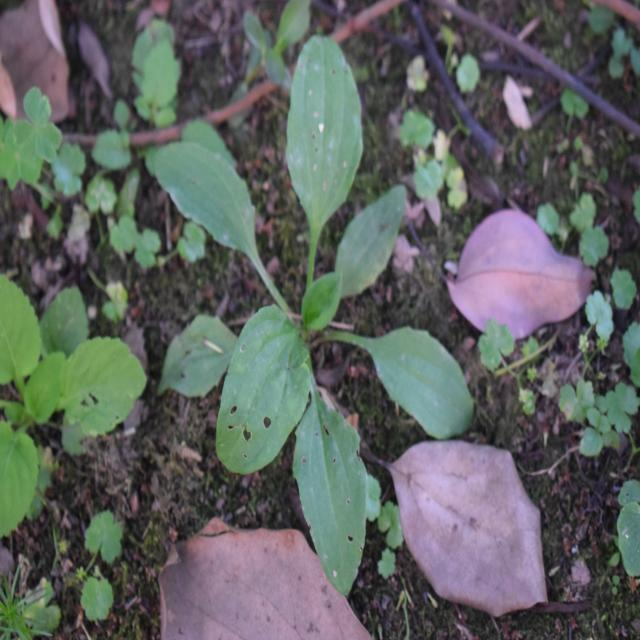plantain: (158, 57, 470, 540)
